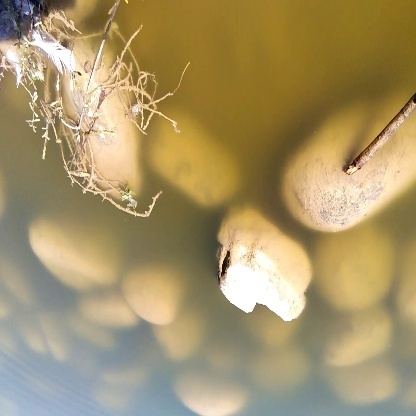branch: (345, 89, 416, 178)
